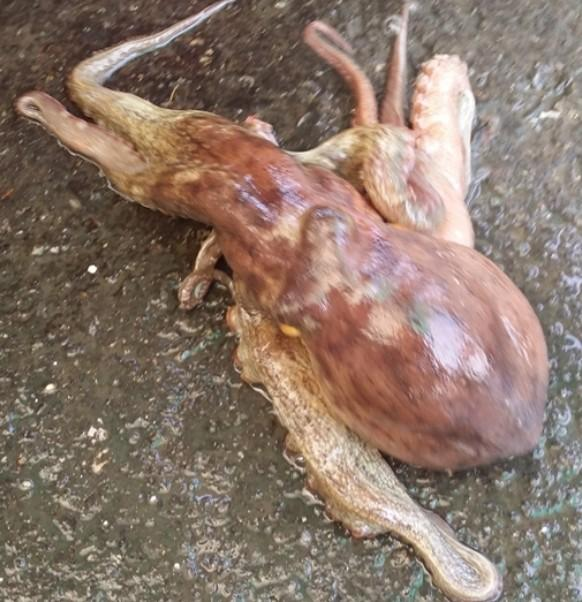Cephalopod: (16, 0, 550, 601)
